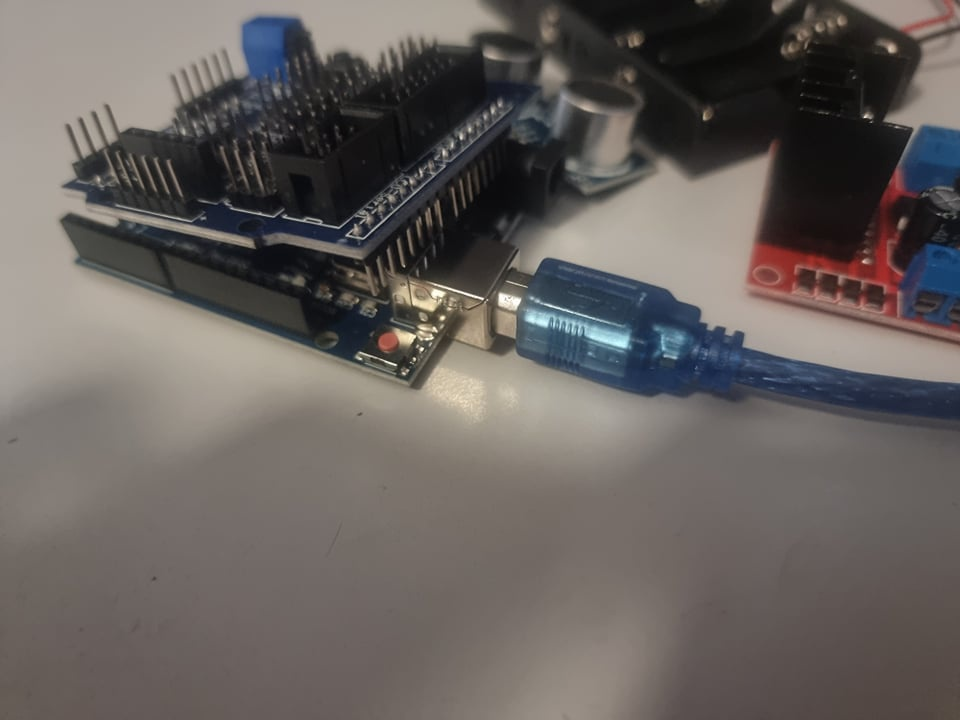5V EXPANSION: (61, 16, 507, 220)
BATTERY BOX: (553, 1, 887, 174)
MOTOR: (741, 40, 960, 329)
SENSOR: (512, 35, 651, 218)
UNO R3: (83, 216, 525, 391)
